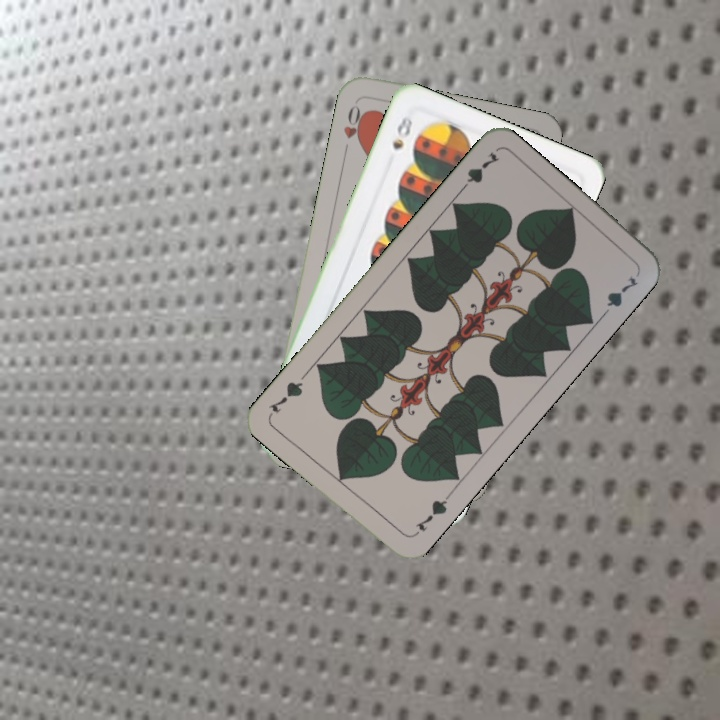G7: (454, 148, 502, 196), (409, 491, 453, 540)
HO: (339, 101, 369, 147)
S8: (388, 111, 415, 153)
